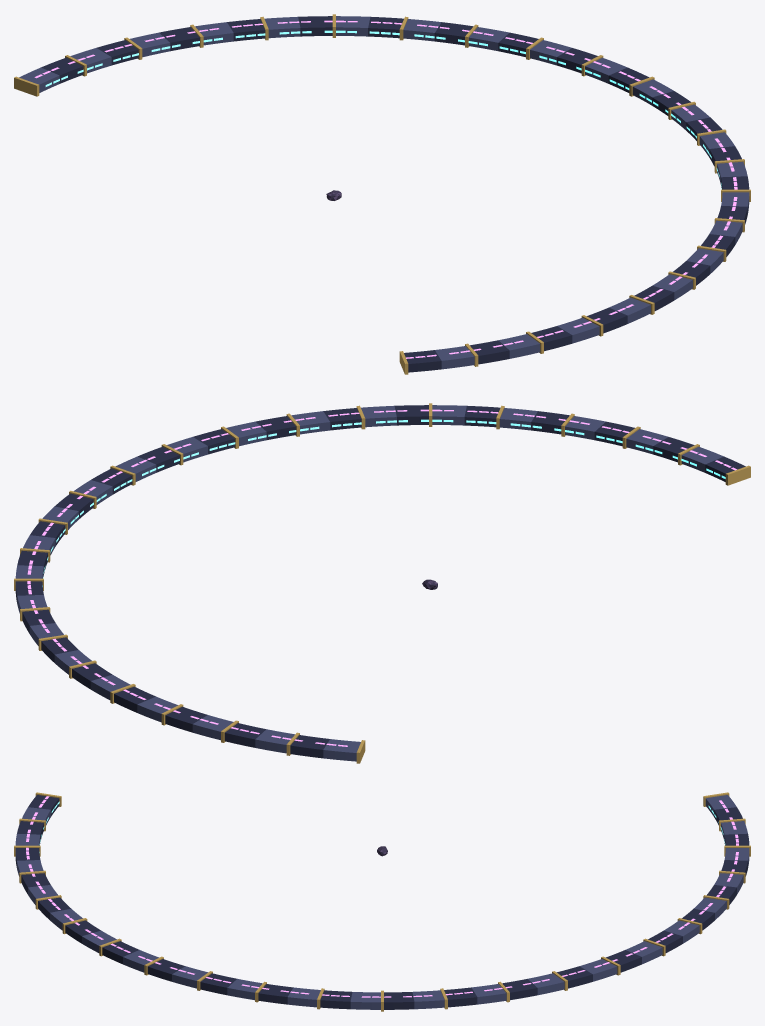
File: paradox_mega.glb
3 renders of one model, top to bottom at view 1: azimuth 30°, elevation 25°; view 2: azimuth 150°, elevation 25°; view 3: azimuth 270°, elevation 25°, orthographic. The views are drawn at different scales.
Visible parts, largest first — view 1: vm_dyson, vm_dyson_neon; view 2: vm_dyson, vm_dyson_neon; view 3: vm_dyson, vm_dyson_neon.
Boxes of the visible parts, box(x1,y1,x2,y2) form: vm_dyson: box(14, 14, 750, 374); vm_dyson_neon: box(34, 20, 737, 358); vm_dyson: box(14, 403, 750, 763); vm_dyson_neon: box(27, 409, 736, 746); vm_dyson: box(14, 792, 750, 1011); vm_dyson_neon: box(26, 796, 738, 997).
Bounding box in the file's own units: 83.78 × 1.8 × 124.
